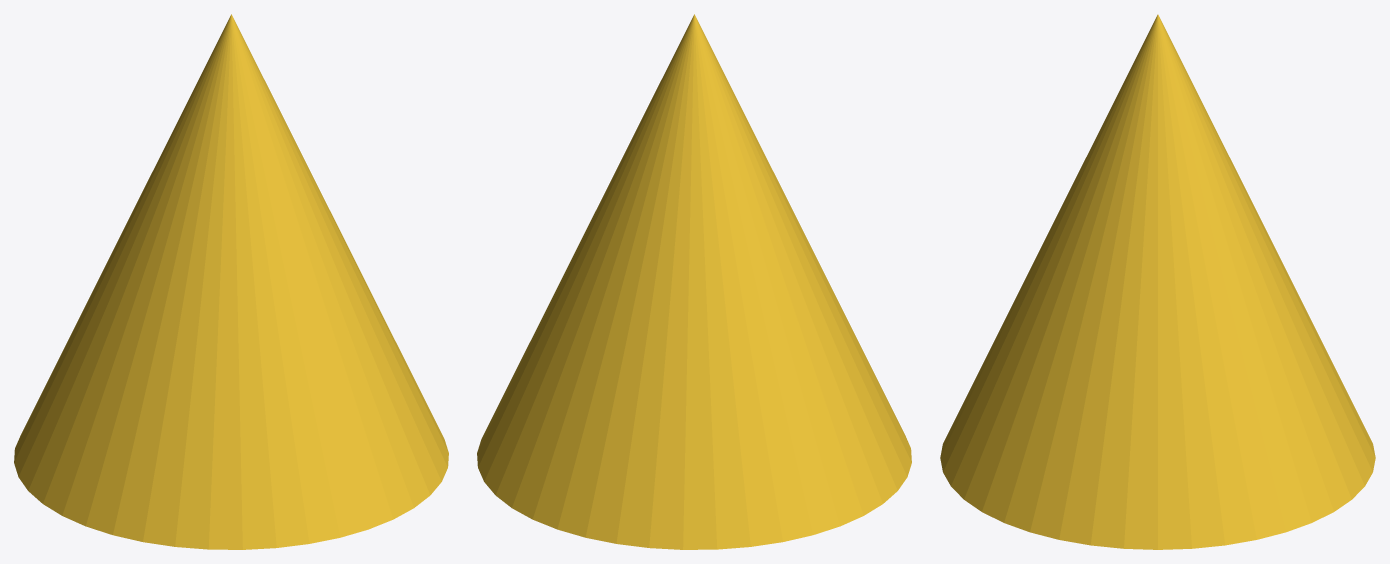
3 views of the same model, side by side, from view 1: azimuth 30°, elevation 25°; view 2: azimuth 150°, elevation 25°; view 3: azimuth 270°, elevation 25° (orthographic).
Size of the model in its own units: 0.8 by 0.9 by 0.8.
